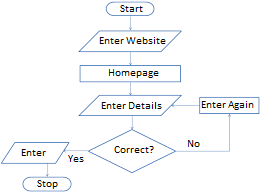arrow: (174, 114, 233, 153), (169, 102, 200, 108), (61, 147, 89, 153), (128, 81, 134, 96), (44, 163, 50, 177), (130, 114, 135, 130), (128, 15, 133, 30), (128, 51, 133, 66)
data: (77, 29, 183, 53), (77, 93, 183, 116), (1, 141, 70, 165)
decision: (86, 128, 178, 174)
process: (77, 63, 182, 84), (198, 95, 261, 115)
terminator: (21, 175, 74, 192), (105, 1, 156, 17)
text: (97, 35, 167, 45), (99, 100, 163, 110), (200, 99, 254, 110), (108, 67, 160, 78), (113, 144, 155, 154), (36, 178, 60, 191), (20, 148, 48, 157), (118, 4, 143, 13), (66, 153, 87, 163), (186, 138, 201, 148)
